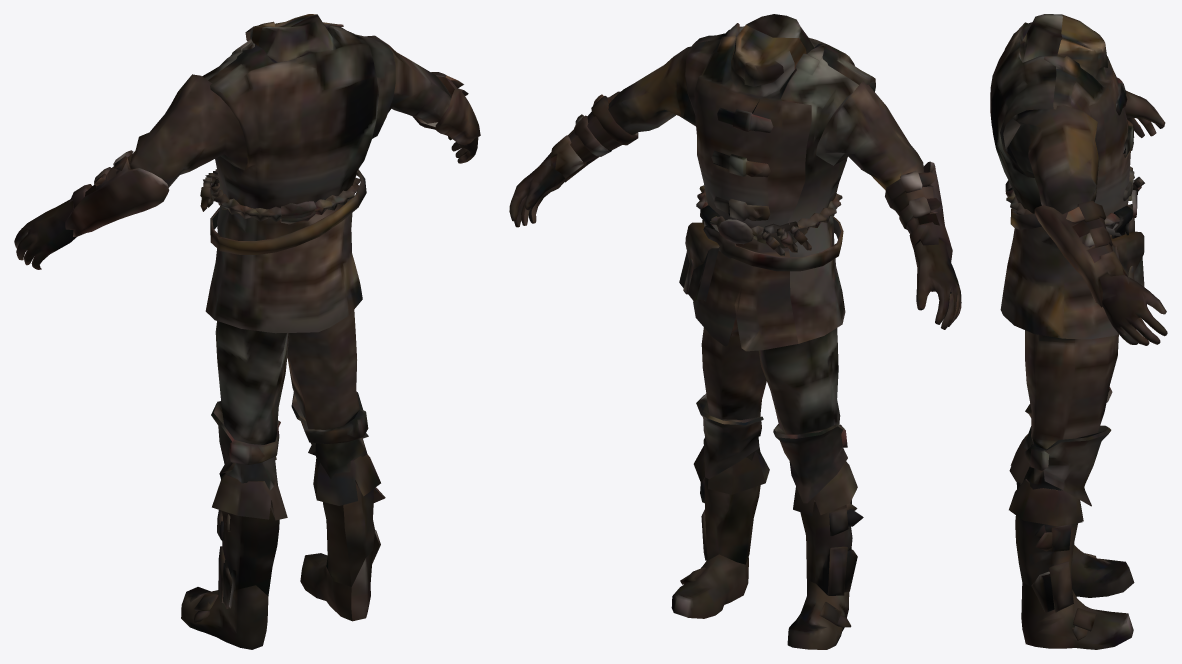
3 renders of one model, left to right at view 1: azimuth 30°, elevation 25°; view 2: azimuth 150°, elevation 25°; view 3: azimuth 270°, elevation 25°, orthographic. The views are drawn at different scales.
Visible parts, largest first — view 1: mesh_0; view 2: mesh_0; view 3: mesh_0.
Part boxes in pixels (left/top/right/bottom): mesh_0: left=14, top=14, right=480, bottom=649; mesh_0: left=509, top=14, right=961, bottom=649; mesh_0: left=990, top=14, right=1167, bottom=649.
Bounding box in the file's own units: 50.38 × 64.58 × 17.32.
1 material, 1 textured.
